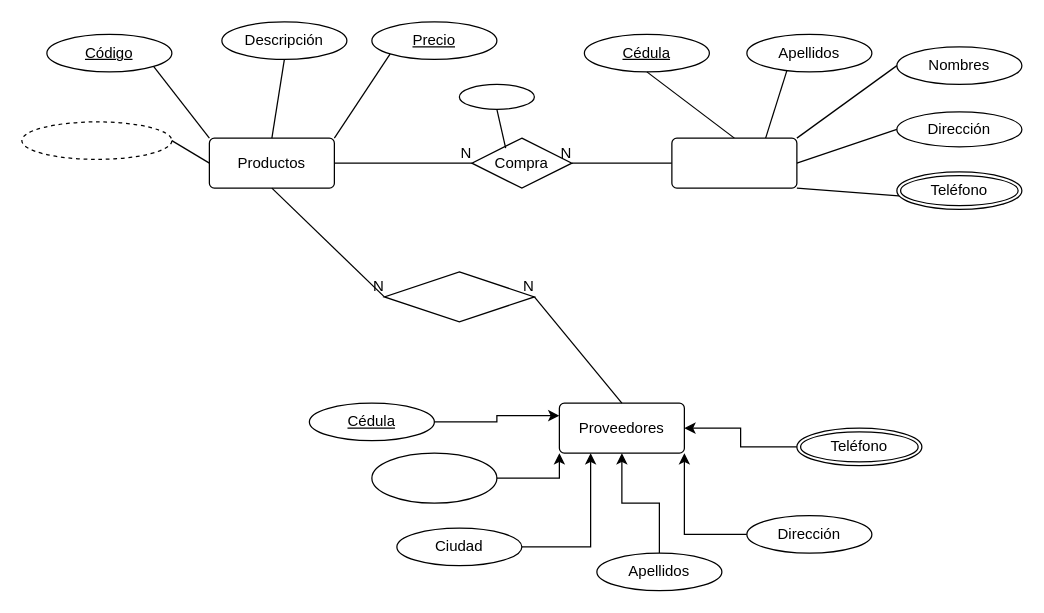
The diagram is 1044 pixels wide and 613 high, and some of its shapes have lost their labels. Each missing label, with the centre of its shape:
"Clientes" goes at (734,162).
"Fecha" goes at (496,96).
"Nombre" goes at (434,477).
"Número_existencia" goes at (96,140).
"Suministra" goes at (458,296).
